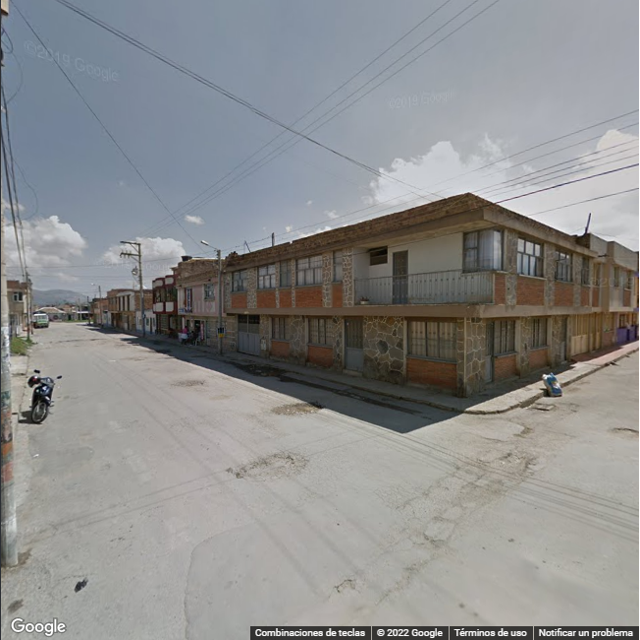D10: (380, 541, 457, 602), (391, 463, 465, 510), (476, 461, 544, 510)
D40: (242, 443, 307, 484)
